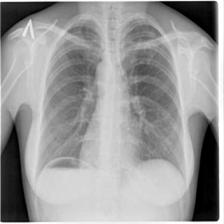tuberculosis: (32, 15, 193, 190)
